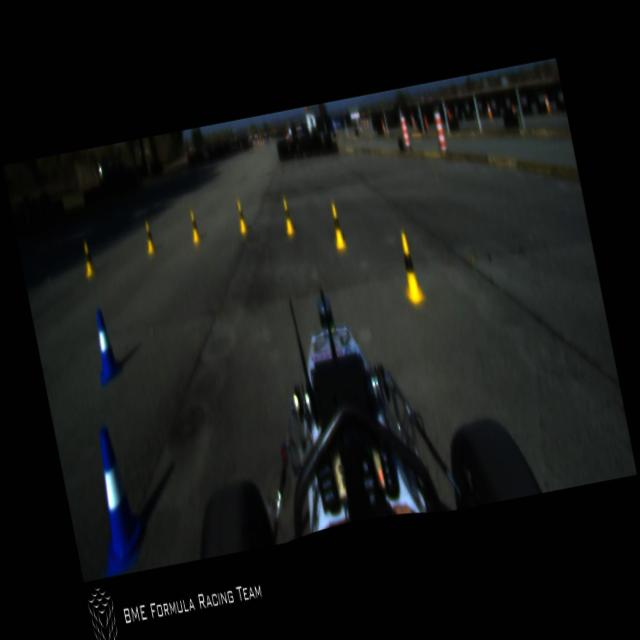blue_cone: (76, 421, 152, 577), (87, 306, 125, 386)
yellow_cone: (393, 230, 428, 308), (328, 202, 347, 251), (80, 240, 98, 280), (281, 199, 296, 237), (141, 220, 157, 254), (187, 210, 202, 245), (234, 200, 249, 235)
